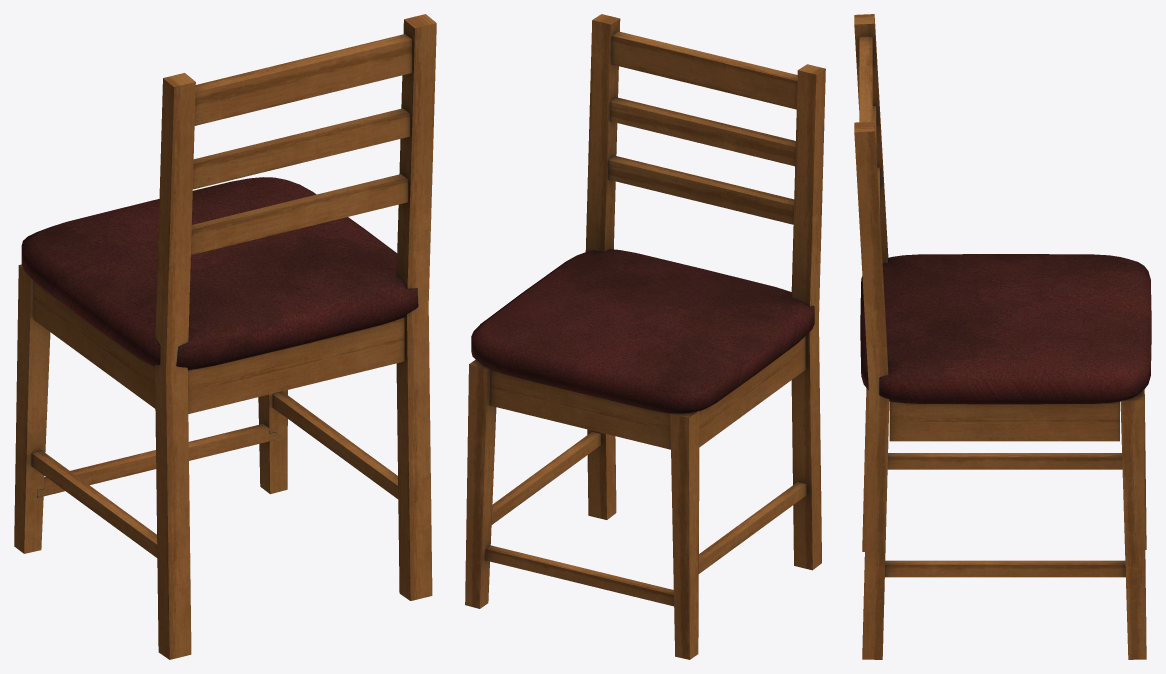
The model's file is chair_ladder_web.glb.
The picture shows the model from 3 angles, left to right: view 1: azimuth 30°, elevation 25°; view 2: azimuth 150°, elevation 25°; view 3: azimuth 270°, elevation 25°; orthographic projection. The views are drawn at different scales.
Visible parts, largest first — view 1: ChairLadder_Mesh; view 2: ChairLadder_Mesh; view 3: ChairLadder_Mesh.
Boxes of the visible parts, bbox=[...] form: ChairLadder_Mesh: bbox=[14, 14, 436, 659]; ChairLadder_Mesh: bbox=[465, 14, 825, 659]; ChairLadder_Mesh: bbox=[854, 14, 1151, 659].
Bounding box in the file's own units: 0.44 × 0.8613 × 0.439.
Materials: 1 (1 with a texture image).
